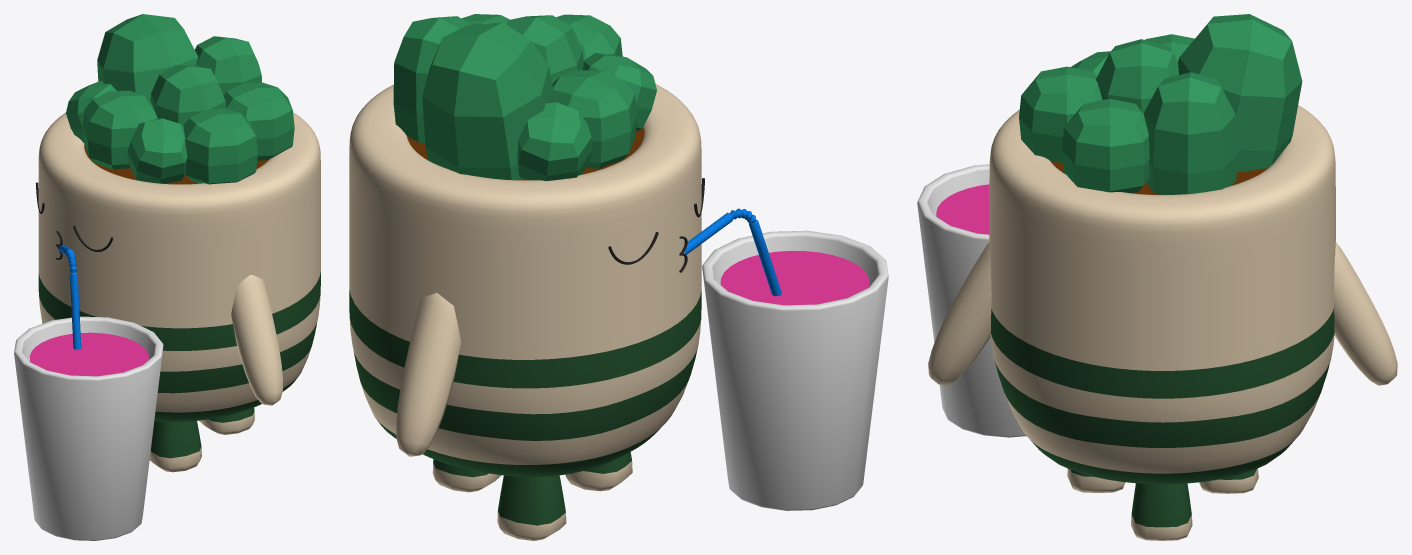
The model's file is vegesims-drink.glb.
The picture shows the model from 3 angles, left to right: view 1: azimuth 30°, elevation 25°; view 2: azimuth 150°, elevation 25°; view 3: azimuth 270°, elevation 25°; orthographic projection. The views are drawn at different scales.
Visible parts, largest first — view 1: body, glass, hair.007, hair, arm-left, hair.005, Circle, hair.002, hair.004, hair.001, hair.003, leg-left (+4 smaller); view 2: body, glass, hair.007, arm-right, Circle, hair.005, hair.006, hair.003, leg-right, hair.001, hair.004, hair (+3 smaller); view 3: body, hair.007, glass, hair.003, hair.002, arm-right, hair, arm-left, hair.001, leg-back, Circle, leg-right (+2 smaller).
Boxes of the visible parts, <box> form: body: <box>38,112,320,422</box>; glass: <box>14,316,163,540</box>; hair.007: <box>97,14,198,101</box>; hair: <box>183,108,257,184</box>; arm-left: <box>231,274,282,405</box>; hair.005: <box>82,90,157,169</box>; Circle: <box>29,332,148,376</box>; hair.002: <box>223,82,294,160</box>; hair.004: <box>127,118,187,183</box>; hair.001: <box>150,64,225,125</box>; hair.003: <box>195,36,261,94</box>; leg-left: <box>149,421,201,472</box>; body: <box>349,83,701,477</box>; glass: <box>702,230,888,510</box>; hair.007: <box>422,22,552,180</box>; arm-right: <box>396,293,460,456</box>; Circle: <box>720,251,869,305</box>; hair.005: <box>550,70,637,168</box>; hair.006: <box>517,102,591,181</box>; hair.003: <box>393,16,470,143</box>; leg-right: <box>497,475,566,540</box>; hair.001: <box>506,15,583,83</box>; hair.004: <box>583,53,656,131</box>; hair: <box>556,14,622,60</box>; body: <box>989,105,1335,484</box>; hair.007: <box>1178,14,1302,172</box>; glass: <box>917,164,1026,437</box>; hair.003: <box>1144,72,1237,194</box>; hair.002: <box>1061,99,1149,193</box>; arm-right: <box>1333,242,1397,385</box>; hair: <box>1019,66,1102,162</box>; arm-left: <box>928,242,991,385</box>; hair.001: <box>1096,39,1178,113</box>; leg-back: <box>1131,483,1192,540</box>; Circle: <box>936,184,989,234</box>; leg-right: <box>1199,468,1258,493</box>.
Size of the model in its own units: 2.77 by 3.08 by 2.76.
